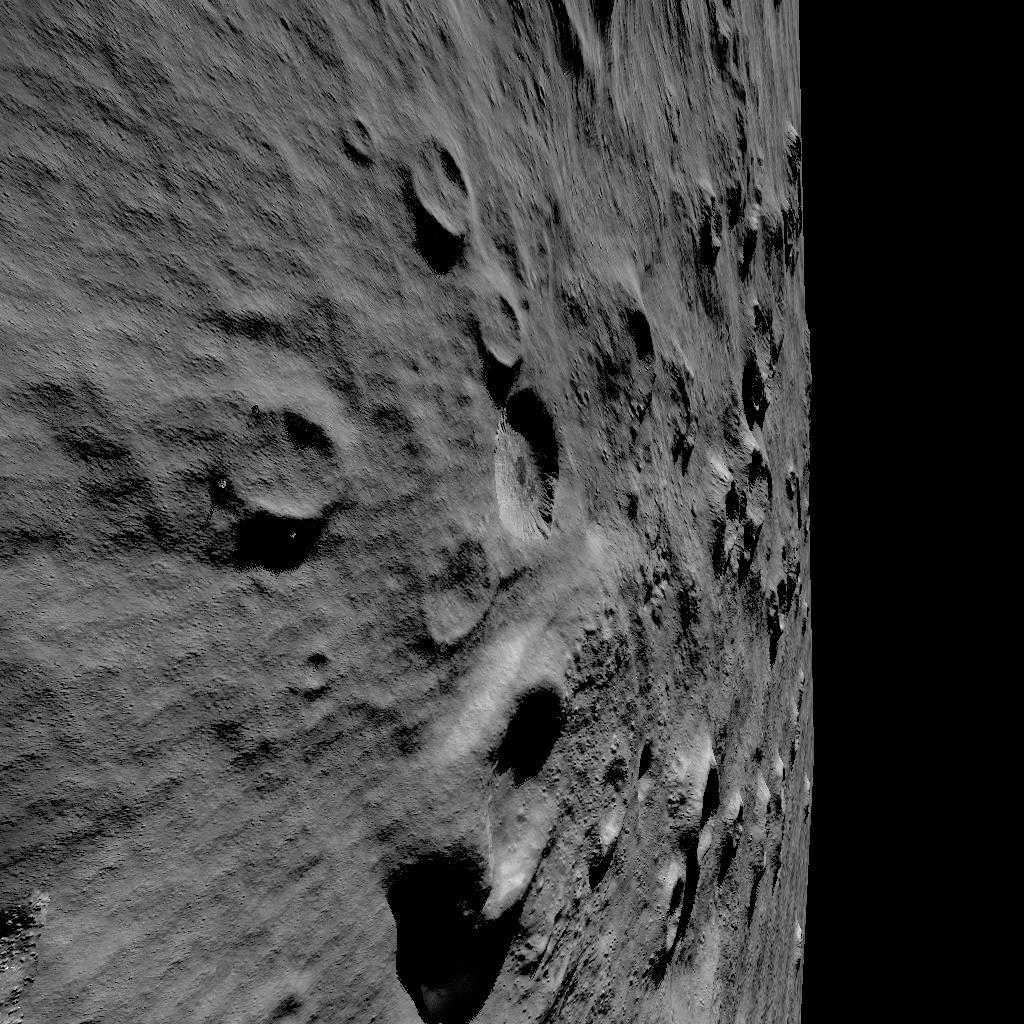Crater: (383, 622, 578, 982), (398, 140, 556, 545), (594, 738, 810, 996), (706, 312, 800, 652), (476, 0, 778, 100), (584, 298, 678, 492), (214, 410, 336, 535), (684, 150, 796, 280)
Plan surface: (0, 0, 386, 395), (54, 565, 370, 1024), (0, 422, 198, 542)
